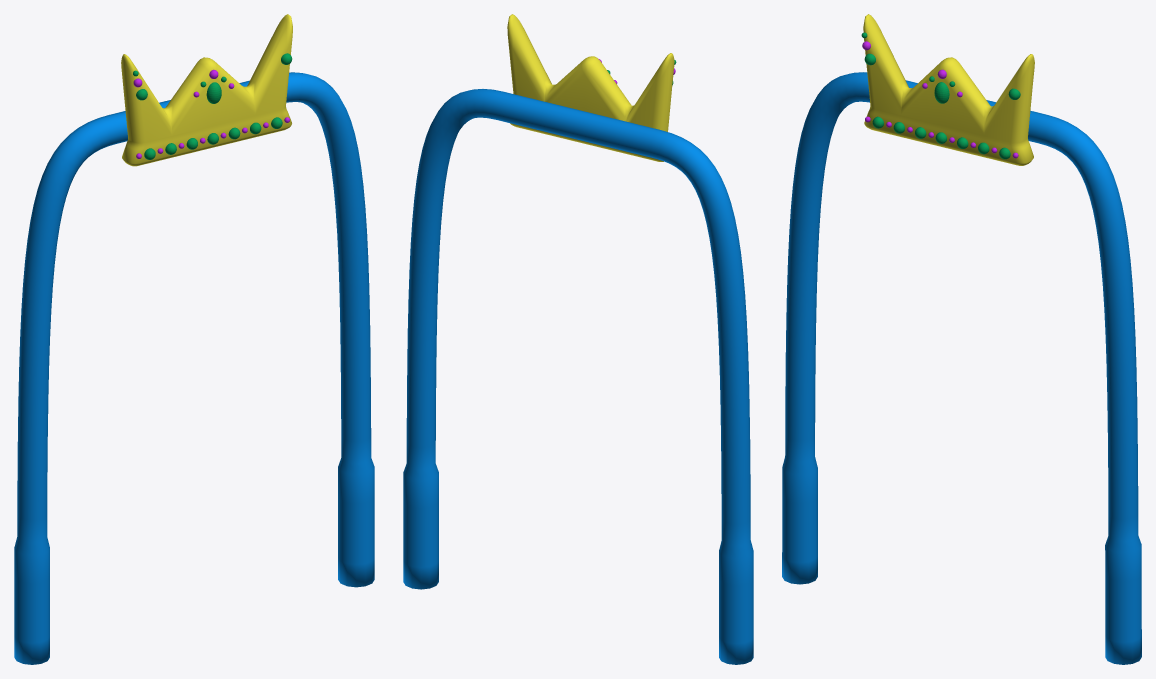
The model's file is door.fbx.
3 views of the same model, side by side, from view 1: azimuth 30°, elevation 25°; view 2: azimuth 150°, elevation 25°; view 3: azimuth 330°, elevation 25° (orthographic). The views are drawn at different scales.
Visible parts, largest first — view 1: BezierCurve.009, Plane; view 2: BezierCurve.009, Plane; view 3: BezierCurve.009, Plane.
Part boxes in pixels (<box>): BezierCurve.009: <box>14,72,374,664</box>; Plane: <box>121,14,292,166</box>; BezierCurve.009: <box>403,89,753,664</box>; Plane: <box>507,14,674,161</box>; BezierCurve.009: <box>782,72,1141,664</box>; Plane: <box>863,14,1034,165</box>.
Bounding box in the file's own units: 219 × 350 × 34.84.
